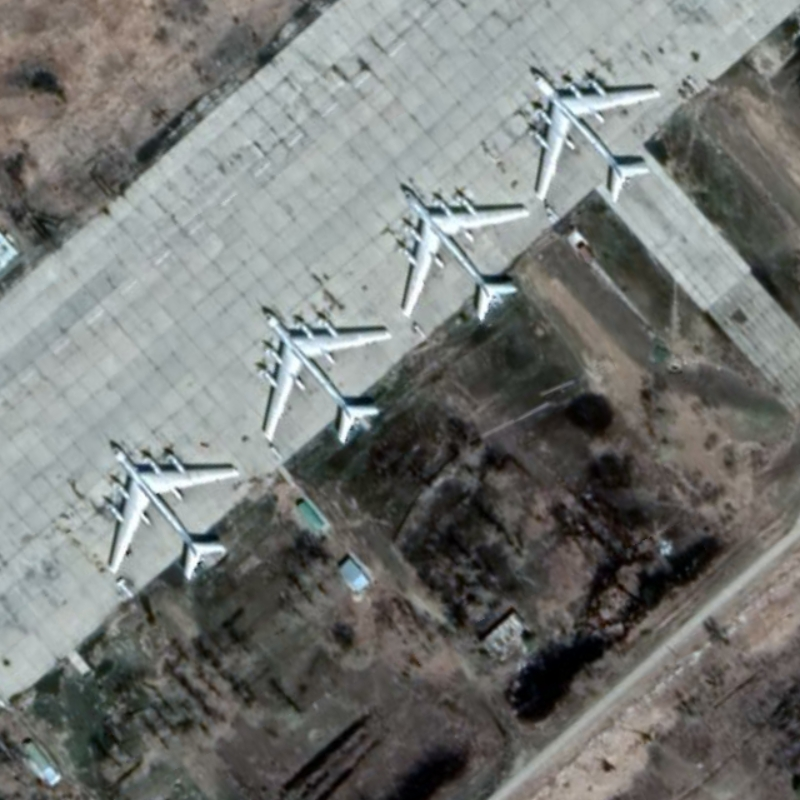A17: (105, 445, 244, 583), (397, 187, 534, 324), (259, 310, 395, 447), (531, 71, 664, 205)
